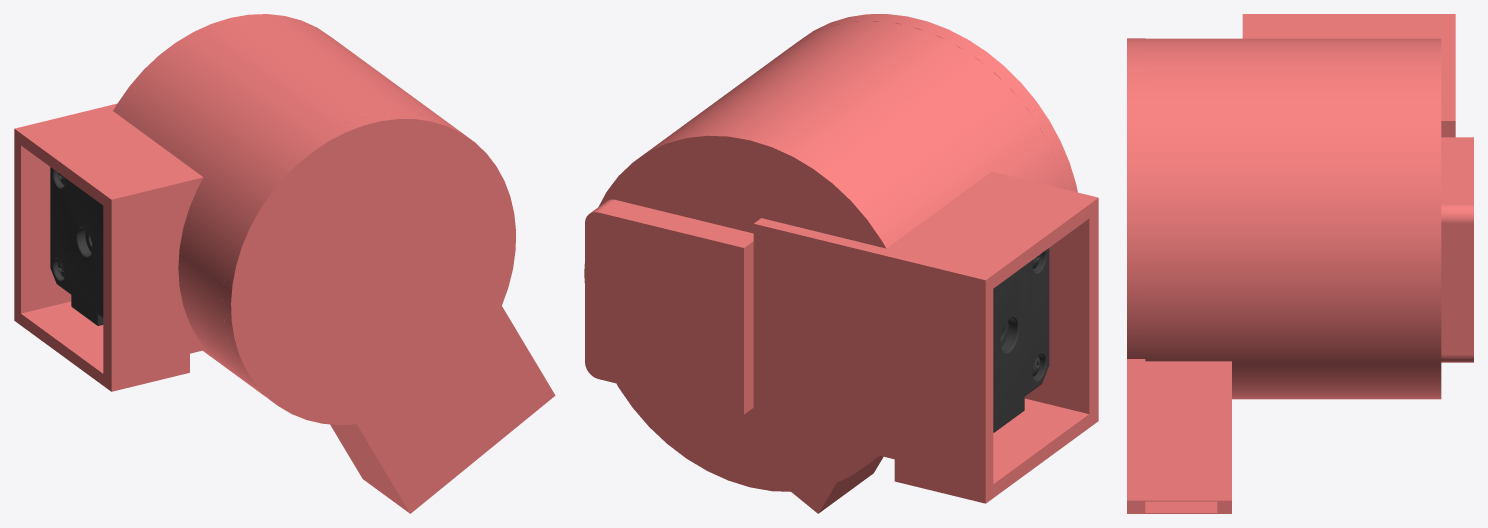
The model's file is hankKneeAssem.glb.
3 renders of one model, left to right at view 1: azimuth 30°, elevation 25°; view 2: azimuth 150°, elevation 25°; view 3: azimuth 270°, elevation 25°, orthographic. The views are drawn at different scales.
Visible parts, largest first — view 1: Knee Hub Cap-1, Knee Hub-3, Rough Hub Motor Assembly-1; view 2: Knee Hub-3, Rough Hub Motor Assembly-1, Knee Hub Cap-1; view 3: Knee Hub-3, Knee Hub Cap-1.
Boxes of the visible parts, bbox=[...] form: Knee Hub Cap-1: bbox=[223, 113, 555, 513]; Knee Hub-3: bbox=[14, 14, 462, 396]; Rough Hub Motor Assembly-1: bbox=[50, 167, 103, 325]; Knee Hub-3: bbox=[584, 21, 1098, 503]; Rough Hub Motor Assembly-1: bbox=[993, 248, 1049, 432]; Knee Hub Cap-1: bbox=[791, 14, 1077, 513]; Knee Hub-3: bbox=[1145, 14, 1473, 399]; Knee Hub Cap-1: bbox=[1127, 38, 1231, 513].
Size of the model in its own units: 0.1372 by 0.1341 by 0.096.
